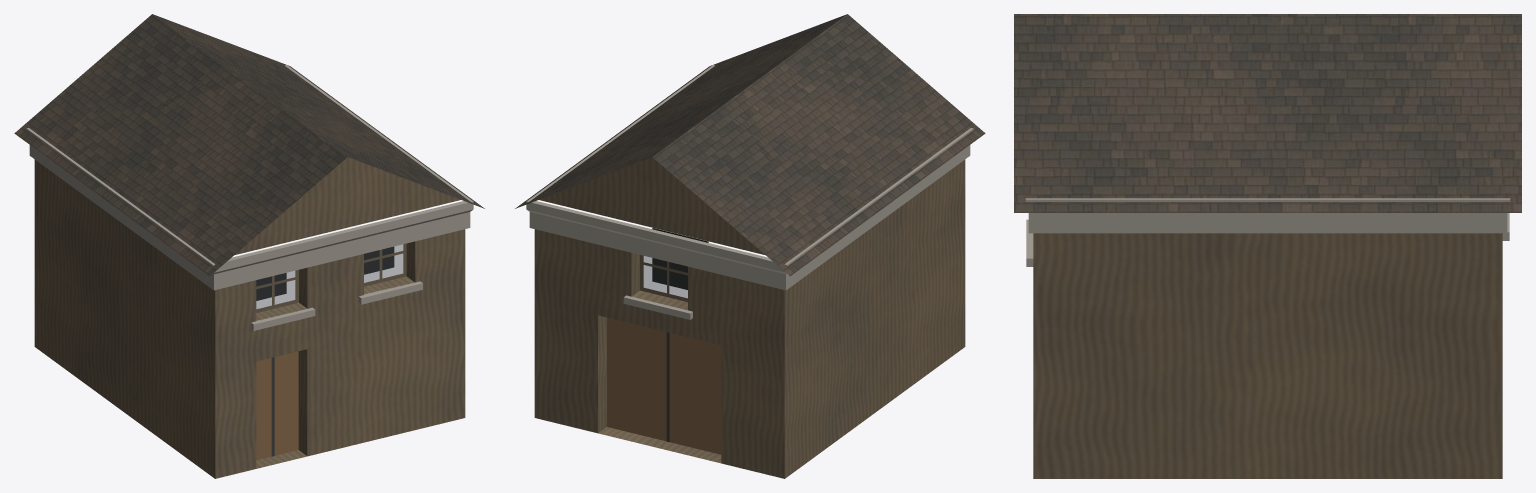
The model's file is oleary_barn_1871__barn_1871.glb.
The picture shows the model from 3 angles, left to right: view 1: azimuth 30°, elevation 25°; view 2: azimuth 150°, elevation 25°; view 3: azimuth 270°, elevation 25°; orthographic projection. The views are drawn at different scales.
Parts seen in each view (by area): view 1: oleary_barn_1871__barn_1871; view 2: oleary_barn_1871__barn_1871; view 3: oleary_barn_1871__barn_1871.
Part boxes in pixels (x1,y1,x2,y2): oleary_barn_1871__barn_1871: (14, 14, 484, 478); oleary_barn_1871__barn_1871: (515, 14, 985, 478); oleary_barn_1871__barn_1871: (1014, 14, 1521, 478).
Bounding box in the file's own units: 5.38 × 5.53 × 6.6.
Materials: 8 (2 with a texture image).
